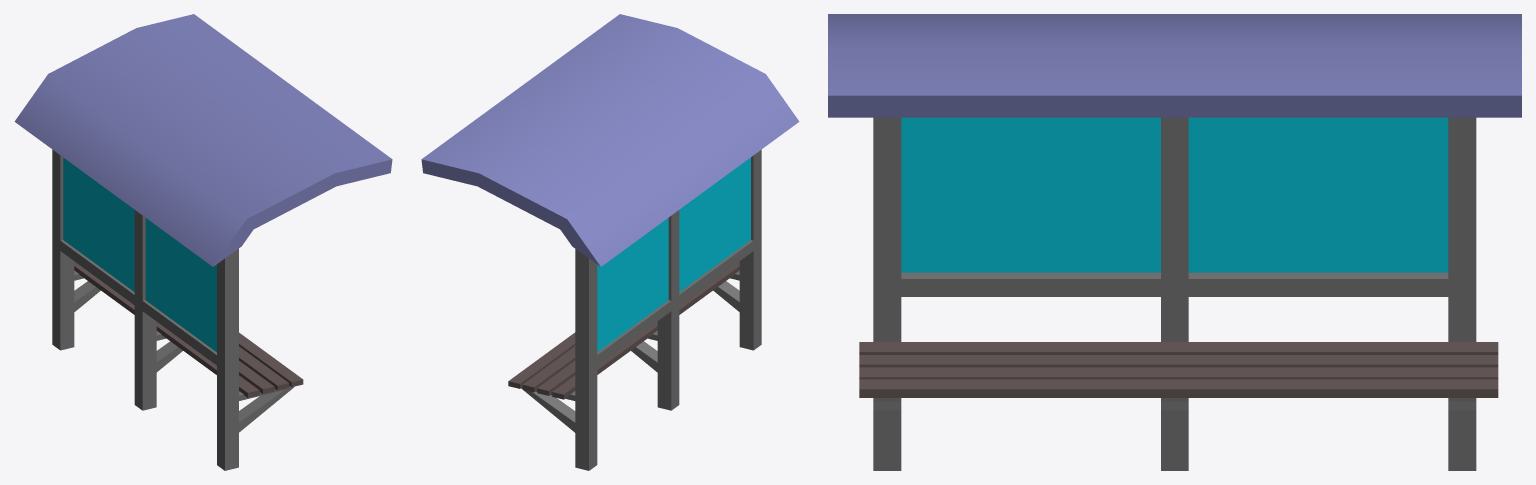
Rendered from Bus_Stop.fbx.
The picture shows the model from 3 angles, left to right: view 1: azimuth 30°, elevation 25°; view 2: azimuth 150°, elevation 25°; view 3: azimuth 270°, elevation 25°; orthographic projection. The views are drawn at different scales.
Visible parts, largest first — view 1: Bus_Ostanovka; view 2: Bus_Ostanovka; view 3: Bus_Ostanovka.
Part boxes in pixels (<box>): Bus_Ostanovka: <box>14,14,392,470</box>; Bus_Ostanovka: <box>421,14,799,470</box>; Bus_Ostanovka: <box>828,14,1521,470</box>.
Bounding box in the file's own units: 3.4 × 5.13 × 6.51.
